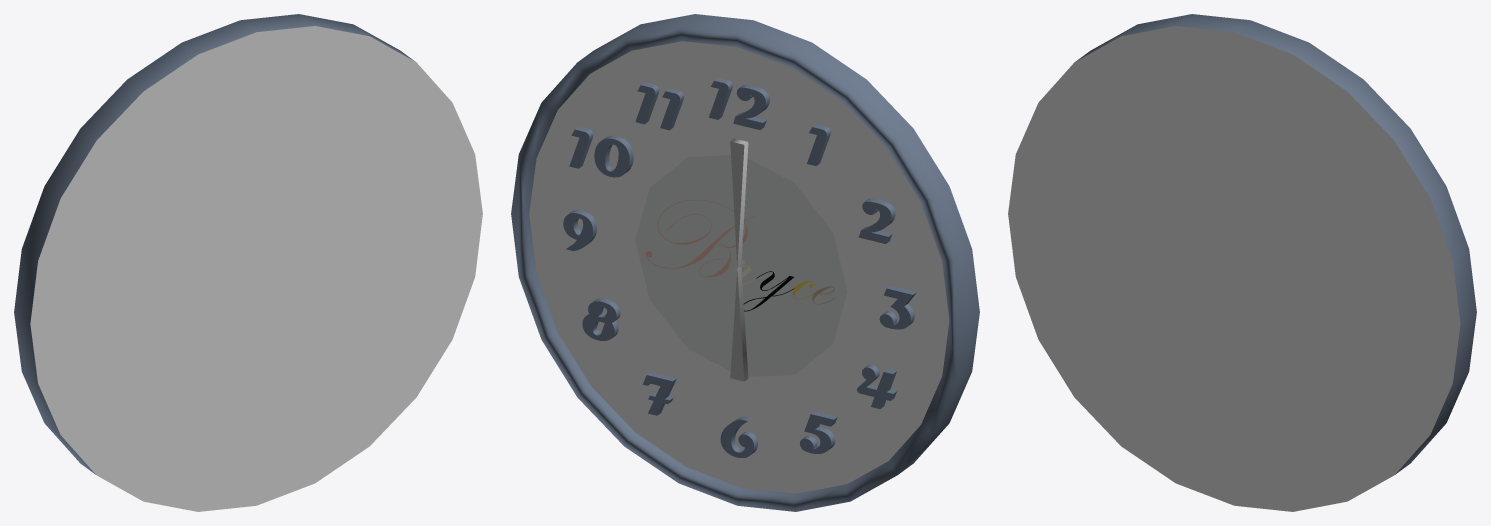
The picture shows the model from 3 angles, left to right: view 1: azimuth 30°, elevation 25°; view 2: azimuth 150°, elevation 25°; view 3: azimuth 330°, elevation 25°; orthographic projection.
Visible parts, largest first — view 1: mesh1_mesh1-geometry, mesh1_mesh1-geometry_1; view 2: mesh1_mesh1-geometry, mesh1_mesh1-geometry_1, mesh1_mesh1-geometry_2, mesh1_mesh1-geometry_3, mesh1_mesh1-geometry_4, mesh12_mesh12-geometry, mesh14_mesh14-geometry, mesh7_mesh7-geometry, mesh9_mesh9-geometry, mesh8_mesh8-geometry, mesh5_mesh5-geometry, mesh4_mesh4-geometry (+9 smaller); view 3: mesh1_mesh1-geometry, mesh1_mesh1-geometry_1.
Part boxes in pixels (x1,y1,x2,y2): mesh1_mesh1-geometry: (30, 26, 482, 511); mesh1_mesh1-geometry_1: (14, 14, 415, 474); mesh1_mesh1-geometry: (529, 41, 949, 493); mesh1_mesh1-geometry_1: (511, 14, 979, 511); mesh1_mesh1-geometry_2: (635, 155, 847, 376); mesh1_mesh1-geometry_3: (635, 155, 846, 376); mesh1_mesh1-geometry_4: (730, 138, 748, 381); mesh12_mesh12-geometry: (582, 298, 620, 340); mesh14_mesh14-geometry: (594, 135, 633, 177); mesh7_mesh7-geometry: (799, 411, 837, 453); mesh9_mesh9-geometry: (857, 364, 896, 408); mesh8_mesh8-geometry: (879, 285, 916, 329); mesh5_mesh5-geometry: (858, 198, 895, 243); mesh4_mesh4-geometry: (733, 84, 769, 129); mesh1_mesh1-geometry: (1008, 26, 1460, 511); mesh1_mesh1-geometry_1: (1075, 14, 1476, 474).
Size of the model in its own units: 0.7064 by 0.7064 by 0.0442.
